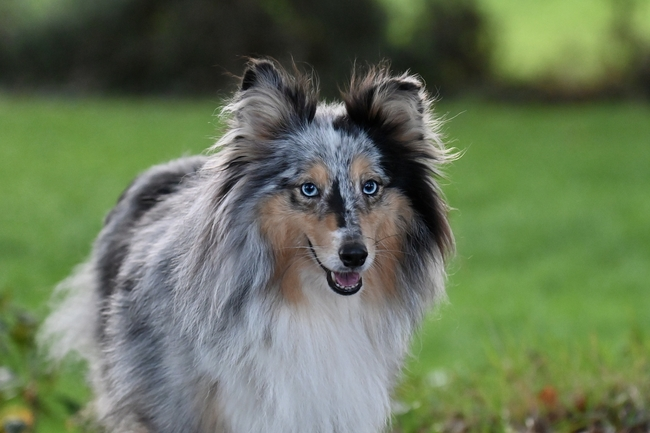dog: (39, 55, 454, 433)
